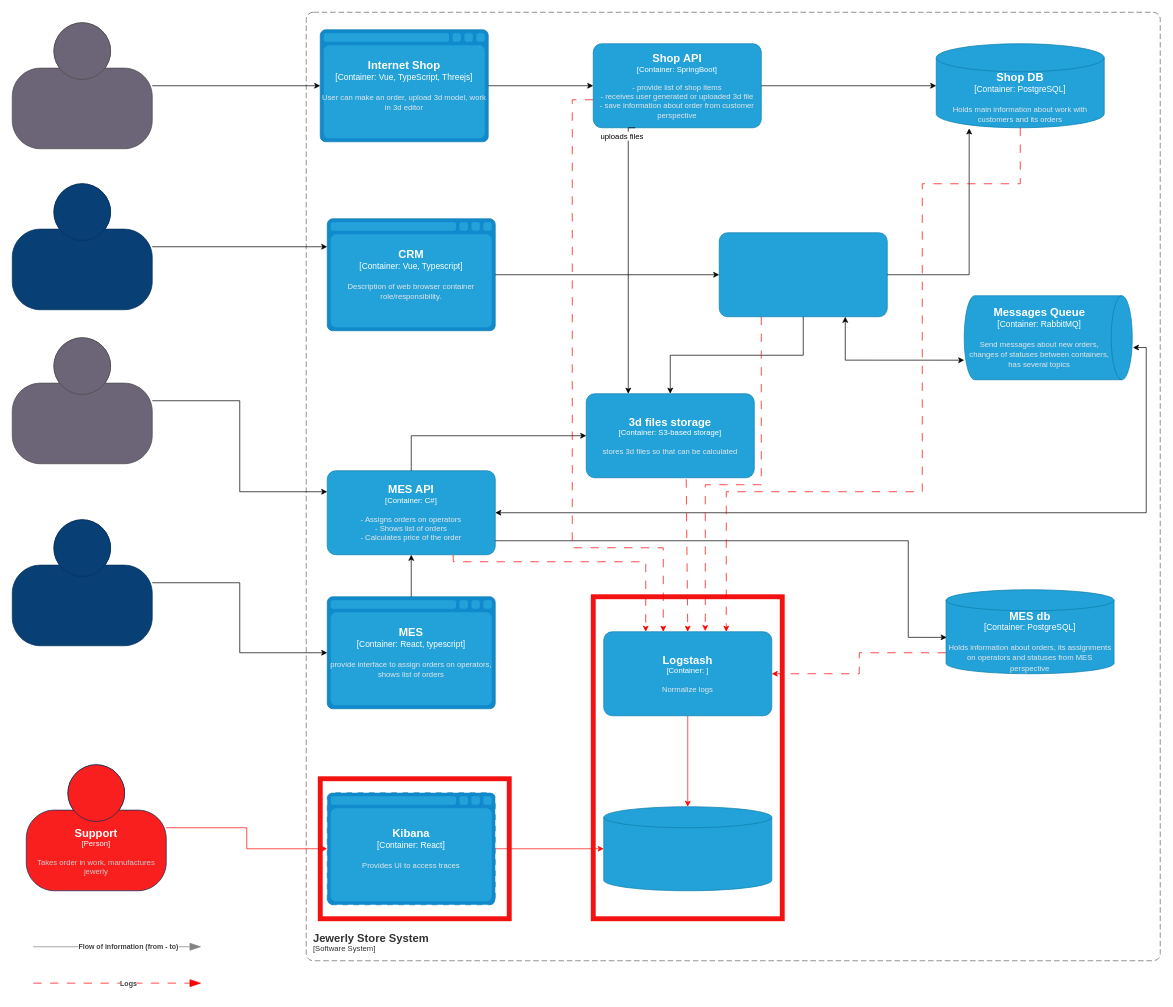
Image size: 1173x1007. Some labels were removed from this diagram. Here are the shapes that lost their labels. From the top down, the centre of each, then its label:
the point at 82,85: Customer [Person] Description of external person.
the point at 82,246: Seller [Person] Operates with order, confirms manufacturing for the user
the point at 803,274: CRM API [Container: SpringBoot] Description of container role/responsibility.
the point at 82,400: API user [Person] Description of external person.
the point at 82,582: Operator [Person] Takes order in work, manufactures jewerly
the point at 687,848: ElasticSearch [Container: ] log storage
